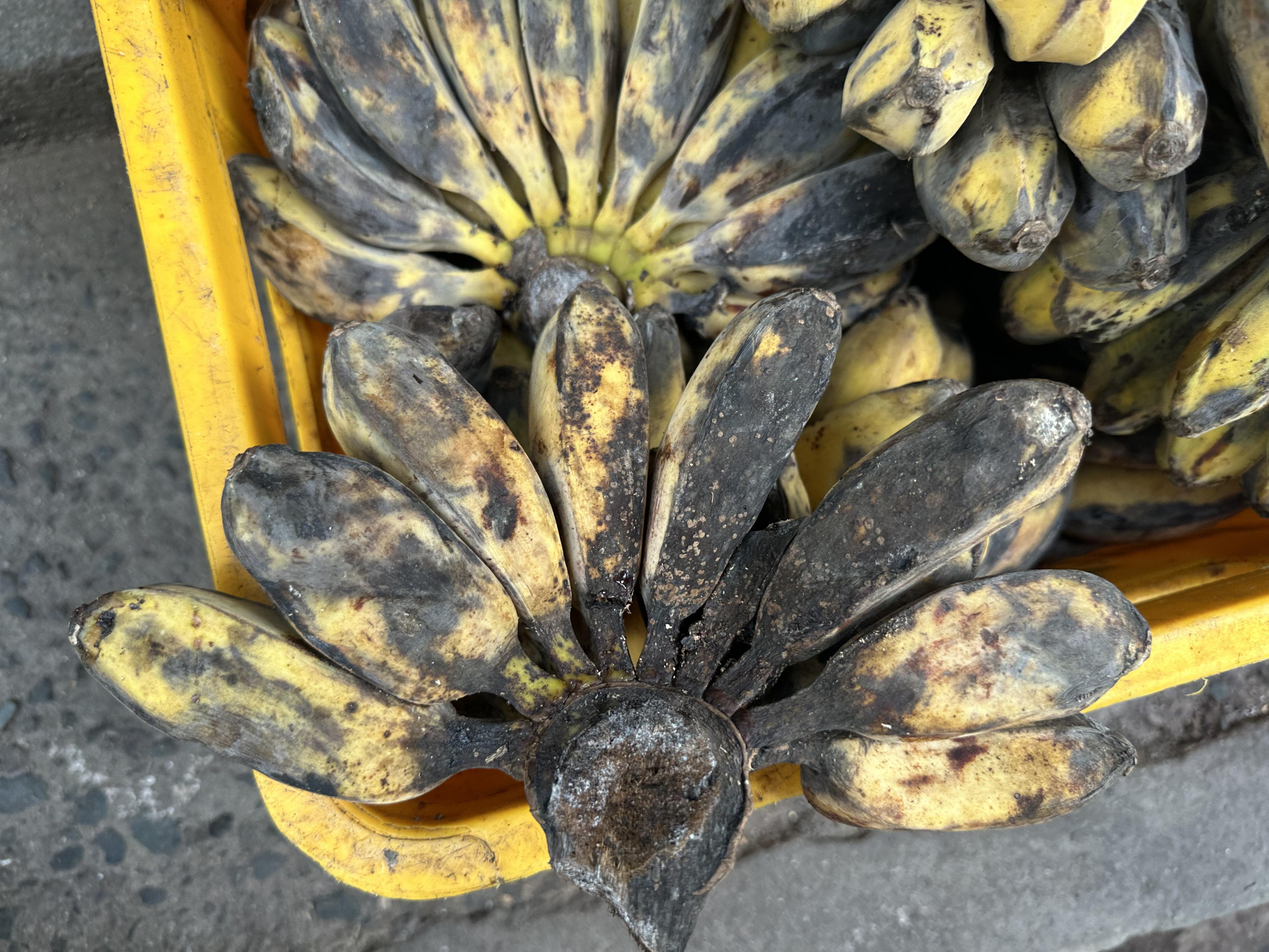overripe: (71, 284, 1149, 829), (228, 0, 938, 335)
ripe: (744, 0, 1206, 290), (1001, 157, 1269, 515)
